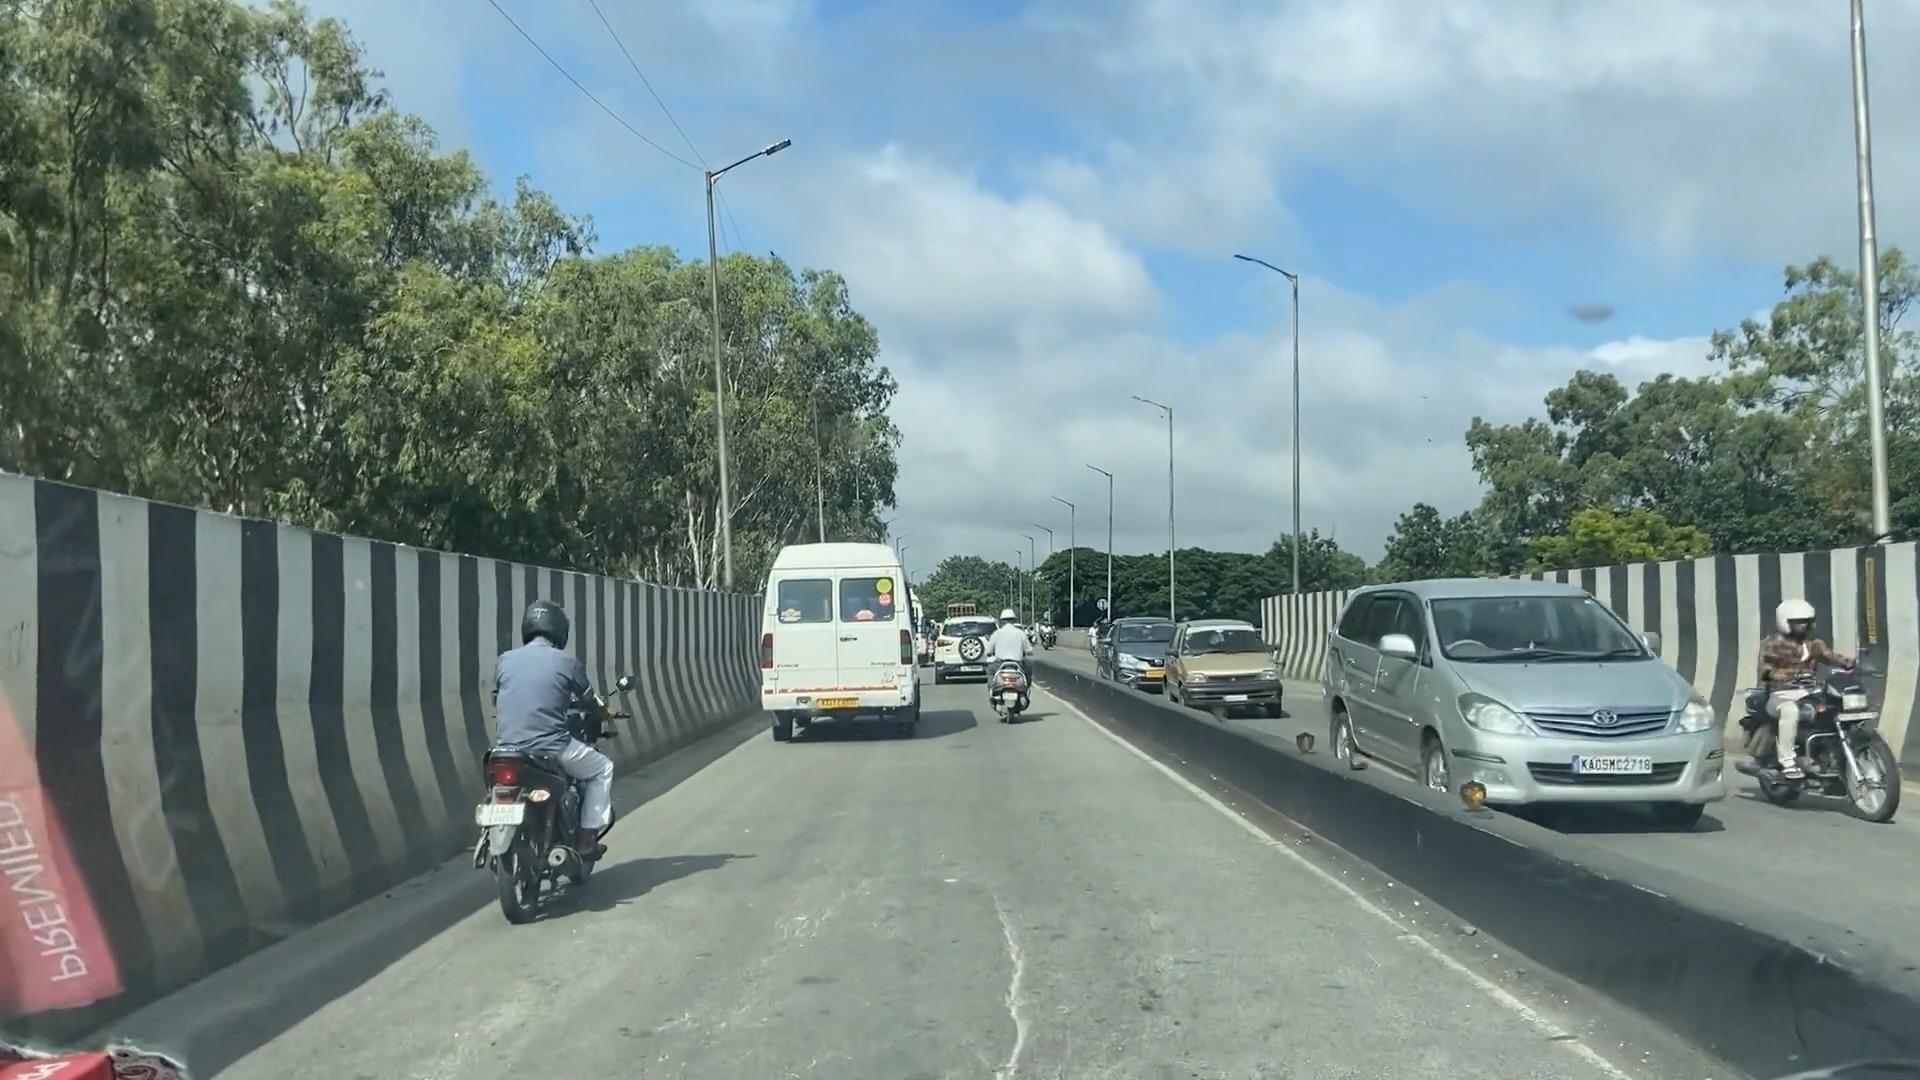HMV: (758, 543, 931, 760)
LMV: (485, 604, 613, 909), (1001, 613, 1047, 741)
RoadDamages: (980, 841, 1031, 1079)
